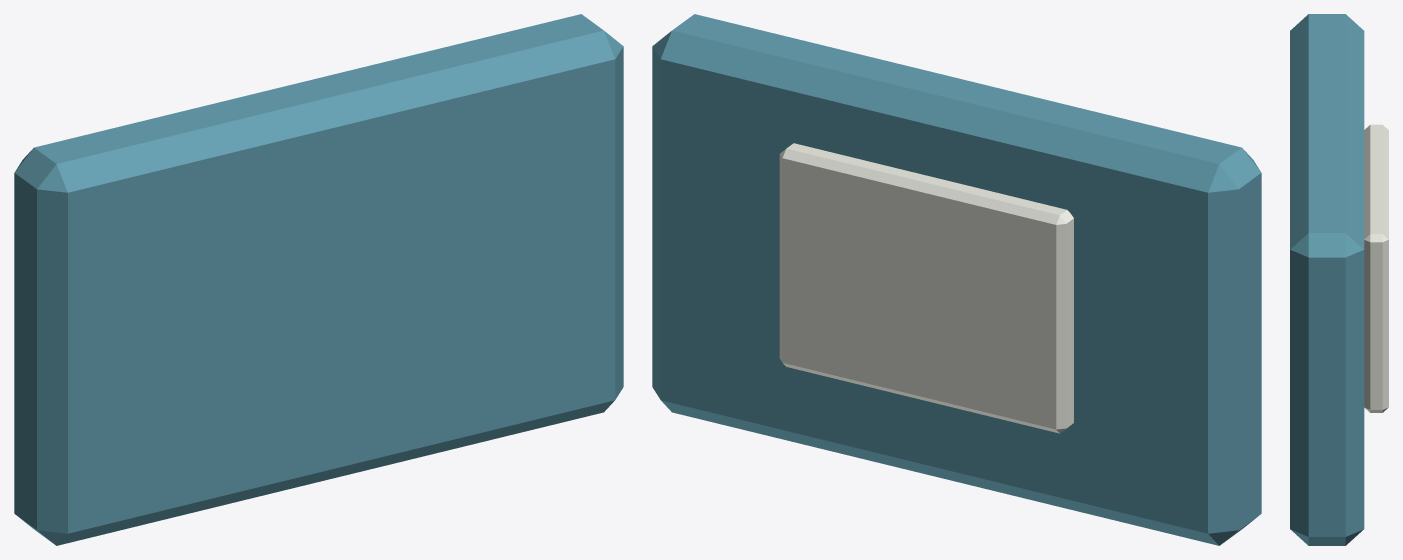
Rendered from gps_navigation.glb.
3 renders of one model, left to right at view 1: azimuth 30°, elevation 25°; view 2: azimuth 150°, elevation 25°; view 3: azimuth 270°, elevation 25°, orthographic. The views are drawn at different scales.
Visible parts, largest first — view 1: glass_cockpit.001; view 2: glass_cockpit.001, gps_screen.001; view 3: glass_cockpit.001, gps_screen.001.
Part boxes in pixels (x1,y1,x2,y2): glass_cockpit.001: (14, 14, 623, 545); glass_cockpit.001: (652, 14, 1261, 545); gps_screen.001: (779, 143, 1073, 433); glass_cockpit.001: (1290, 14, 1364, 545); gps_screen.001: (1364, 124, 1388, 412).
Size of the model in its own units: 0.9 by 0.56 by 0.16.
